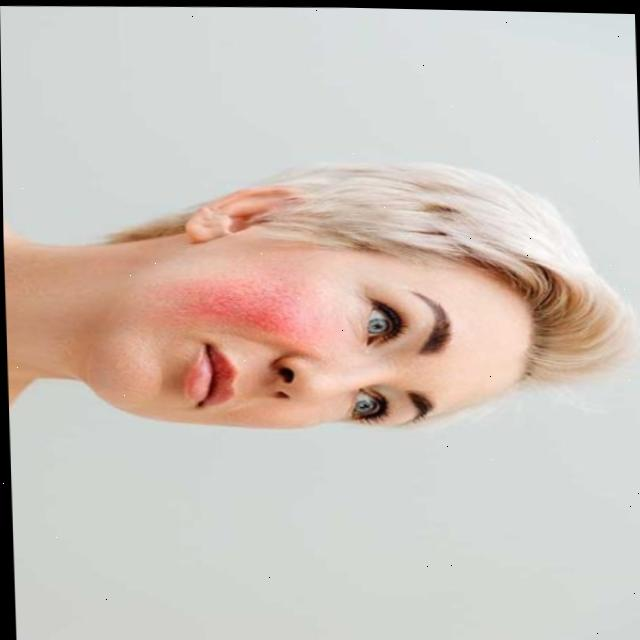Rosacea: (156, 268, 324, 345)
